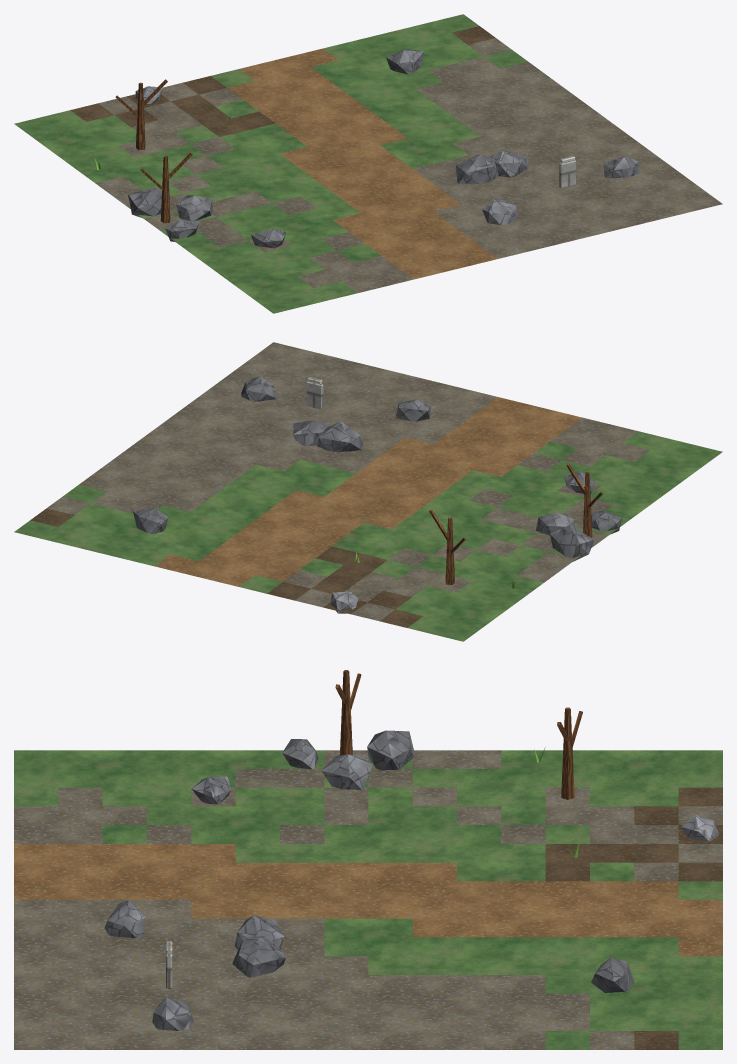
The model's file is chunk_1_19.glb.
3 views of the same model, one above another, from view 1: azimuth 30°, elevation 25°; view 2: azimuth 150°, elevation 25°; view 3: azimuth 270°, elevation 25° (orthographic). The views are drawn at different scales.
Visible parts, largest first — view 1: chunk_1_19; view 2: chunk_1_19; view 3: chunk_1_19.
Part boxes in pixels (left/top/right/bottom): chunk_1_19: left=14, top=14, right=722, bottom=313; chunk_1_19: left=14, top=342, right=722, bottom=641; chunk_1_19: left=14, top=670, right=722, bottom=1049.
Size of the model in its own units: 16.24 by 2.72 by 16.
10 materials, 9 textured.
